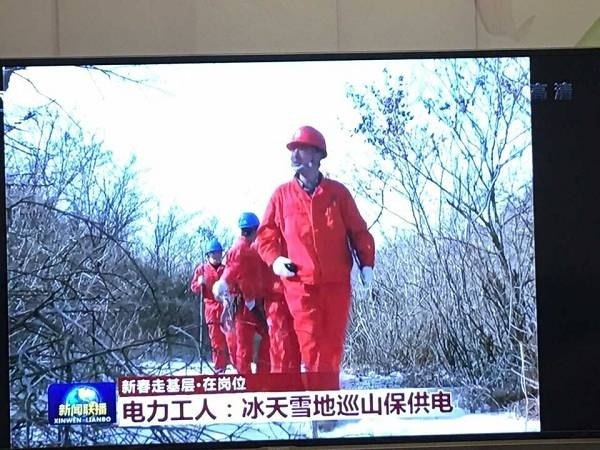blue: (236, 211, 259, 239), (203, 239, 225, 266)
red: (285, 124, 328, 178)
